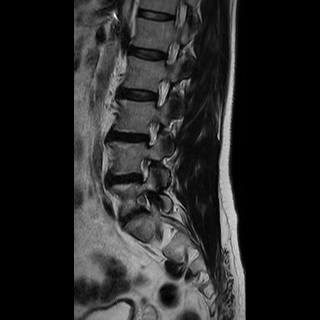LFS0: (138, 113, 162, 150), (131, 151, 155, 187), (158, 37, 183, 70)
